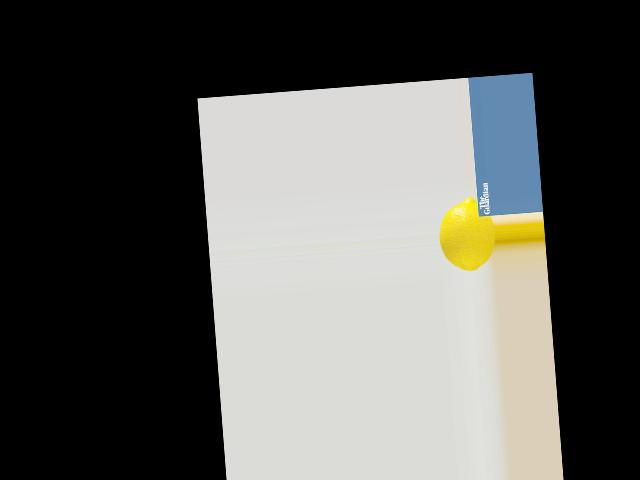lemon: (436, 197, 498, 273)
